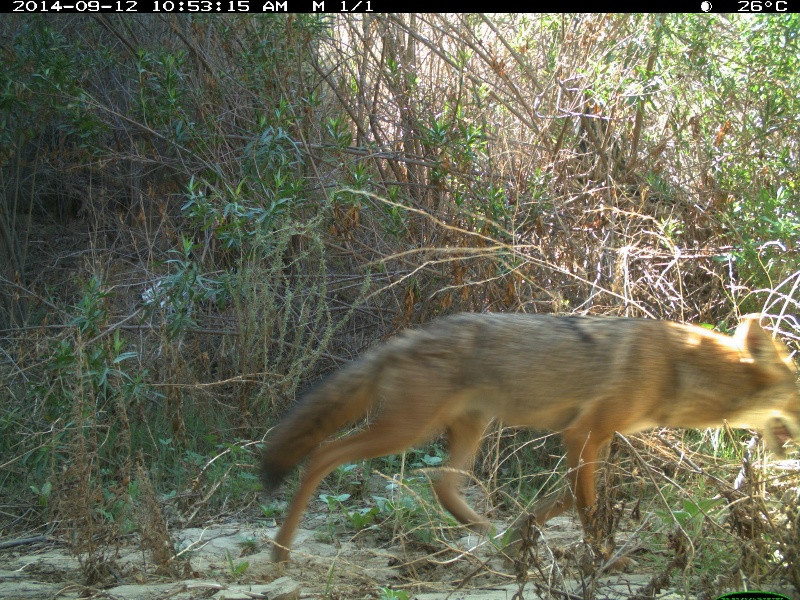coyote: (265, 304, 800, 575)
